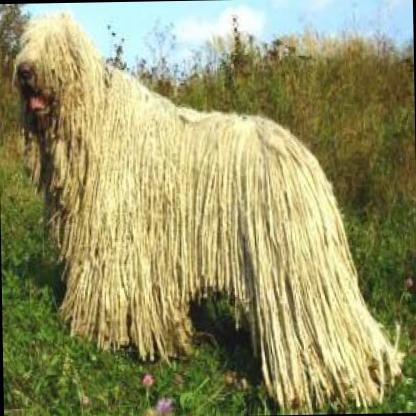komondor: (3, 0, 406, 416)
